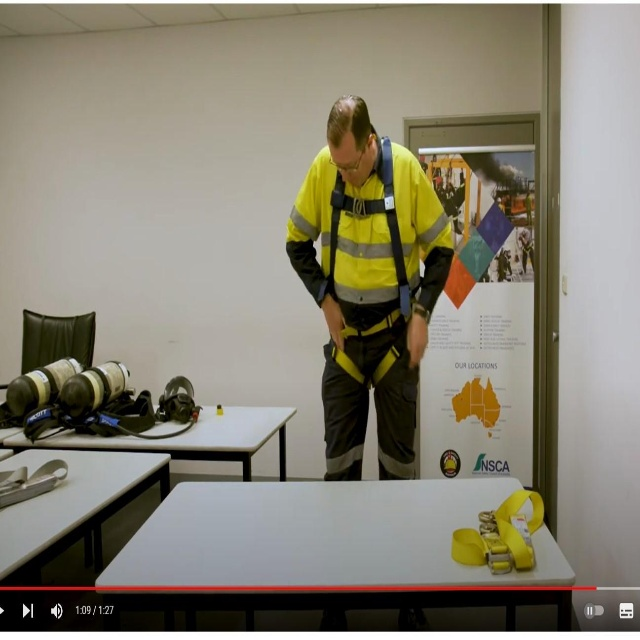Arnes_seguridad: (322, 136, 414, 390)
